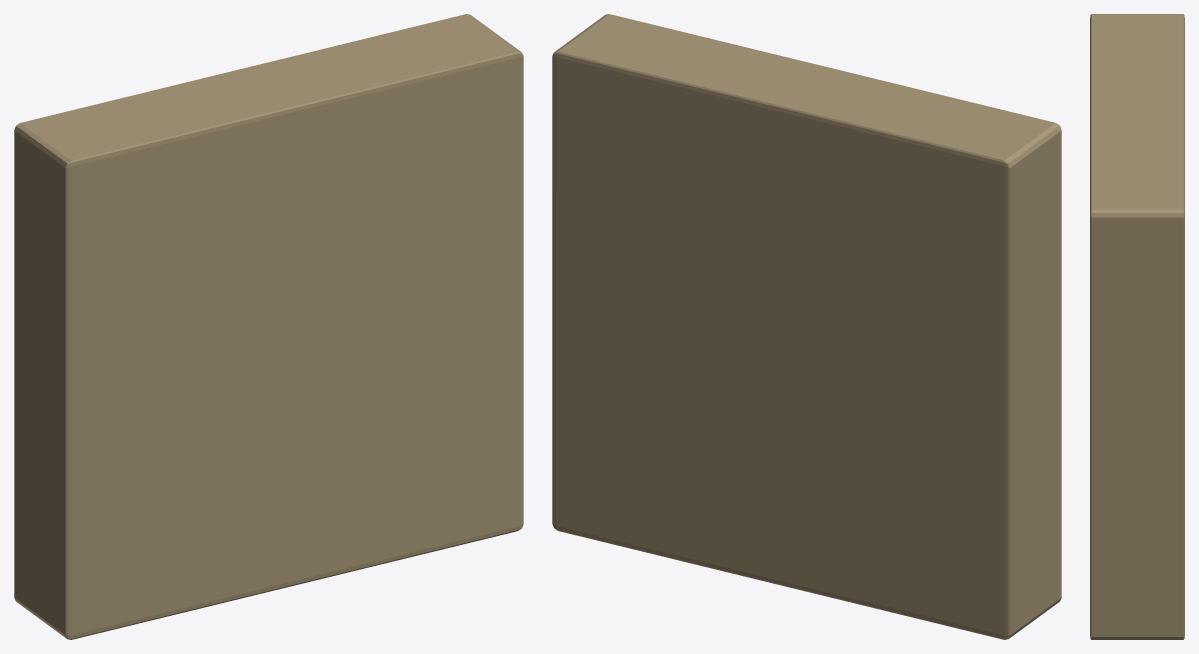
The model's file is build_wall.glb.
The picture shows the model from 3 angles, left to right: view 1: azimuth 30°, elevation 25°; view 2: azimuth 150°, elevation 25°; view 3: azimuth 270°, elevation 25°; orthographic projection. The views are drawn at different scales.
Visible parts, largest first — view 1: build_wall_part_0; view 2: build_wall_part_0; view 3: build_wall_part_0.
Boxes of the visible parts, left/top/right/bottom form: build_wall_part_0: left=14, top=14, right=523, bottom=639; build_wall_part_0: left=552, top=14, right=1061, bottom=639; build_wall_part_0: left=1090, top=14, right=1184, bottom=639.
Bounding box in the file's own units: 2 × 2 × 0.4.
